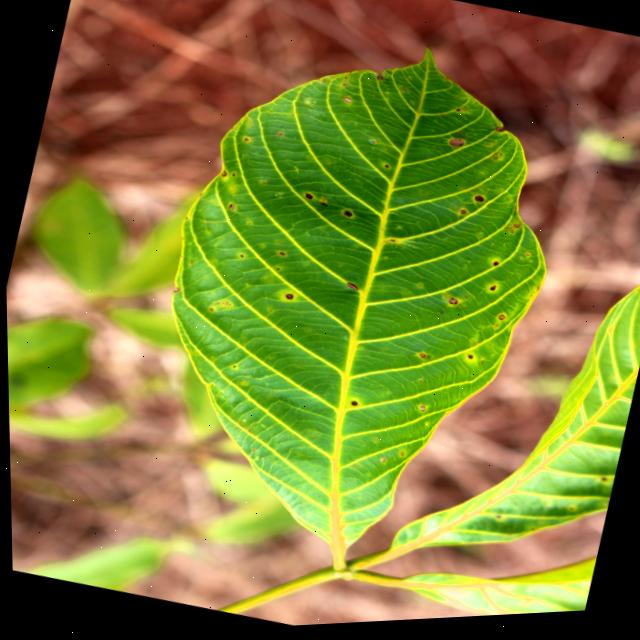Colletotrichum: (471, 200, 482, 208), (341, 213, 350, 221), (282, 295, 290, 303), (303, 196, 310, 202), (347, 404, 354, 409)
